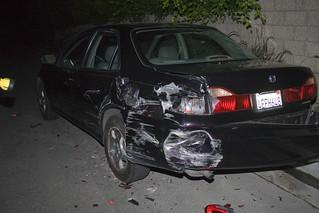quaterpanel-dent: (110, 68, 190, 111)
rear-bumper-dent: (130, 124, 270, 175)
